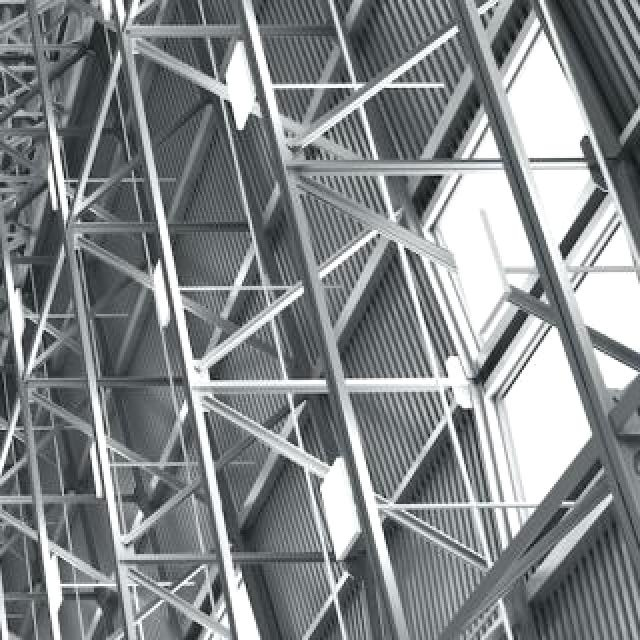fluorescent tube: (84, 440, 104, 520), (8, 284, 28, 360), (38, 165, 58, 233)
